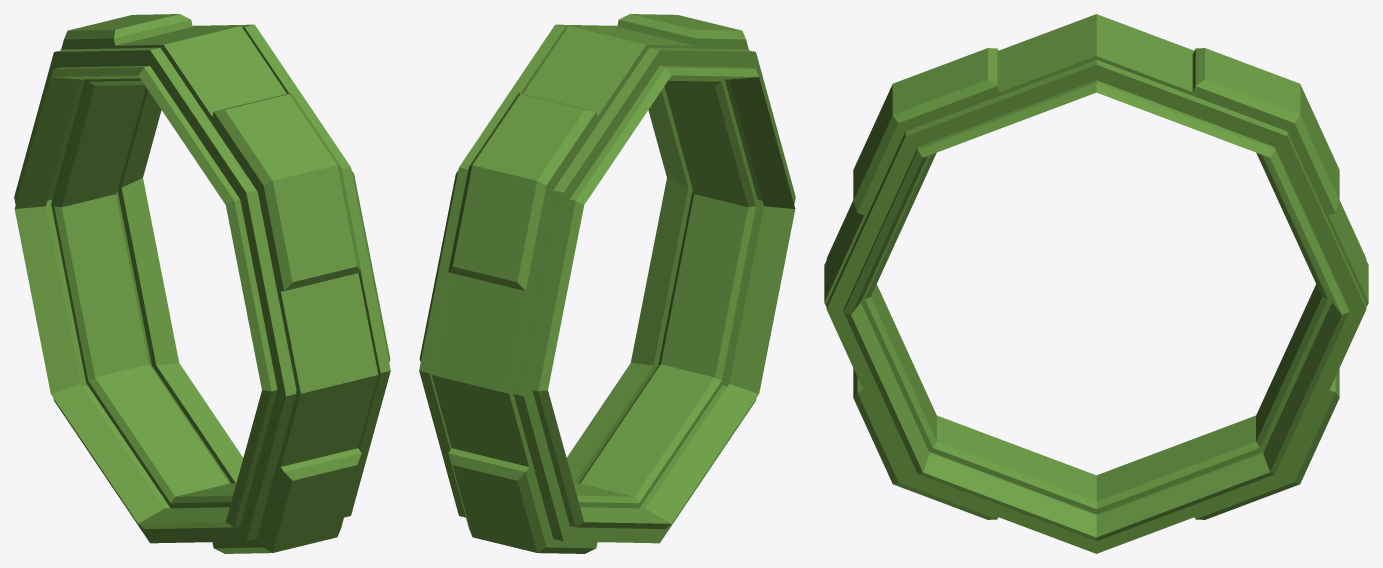
The model's file is Test_Hoop52.fbx.
3 renders of one model, left to right at view 1: azimuth 30°, elevation 25°; view 2: azimuth 150°, elevation 25°; view 3: azimuth 270°, elevation 25°, orthographic.
Visible parts, largest first — view 1: Hoop5Outer_lp, Hoop5Inner_lp; view 2: Hoop5Outer_lp, Hoop5Inner_lp; view 3: Hoop5Outer_lp, Hoop5Inner_lp.
Boxes of the visible parts, bbox=[...] form: Hoop5Outer_lp: bbox=[14, 14, 390, 553]; Hoop5Inner_lp: bbox=[51, 78, 236, 508]; Hoop5Outer_lp: bbox=[419, 14, 795, 553]; Hoop5Inner_lp: bbox=[573, 78, 758, 508]; Hoop5Outer_lp: bbox=[824, 14, 1368, 553]; Hoop5Inner_lp: bbox=[861, 152, 1331, 514].
Size of the model in its own units: 423 by 1565 by 1565.
